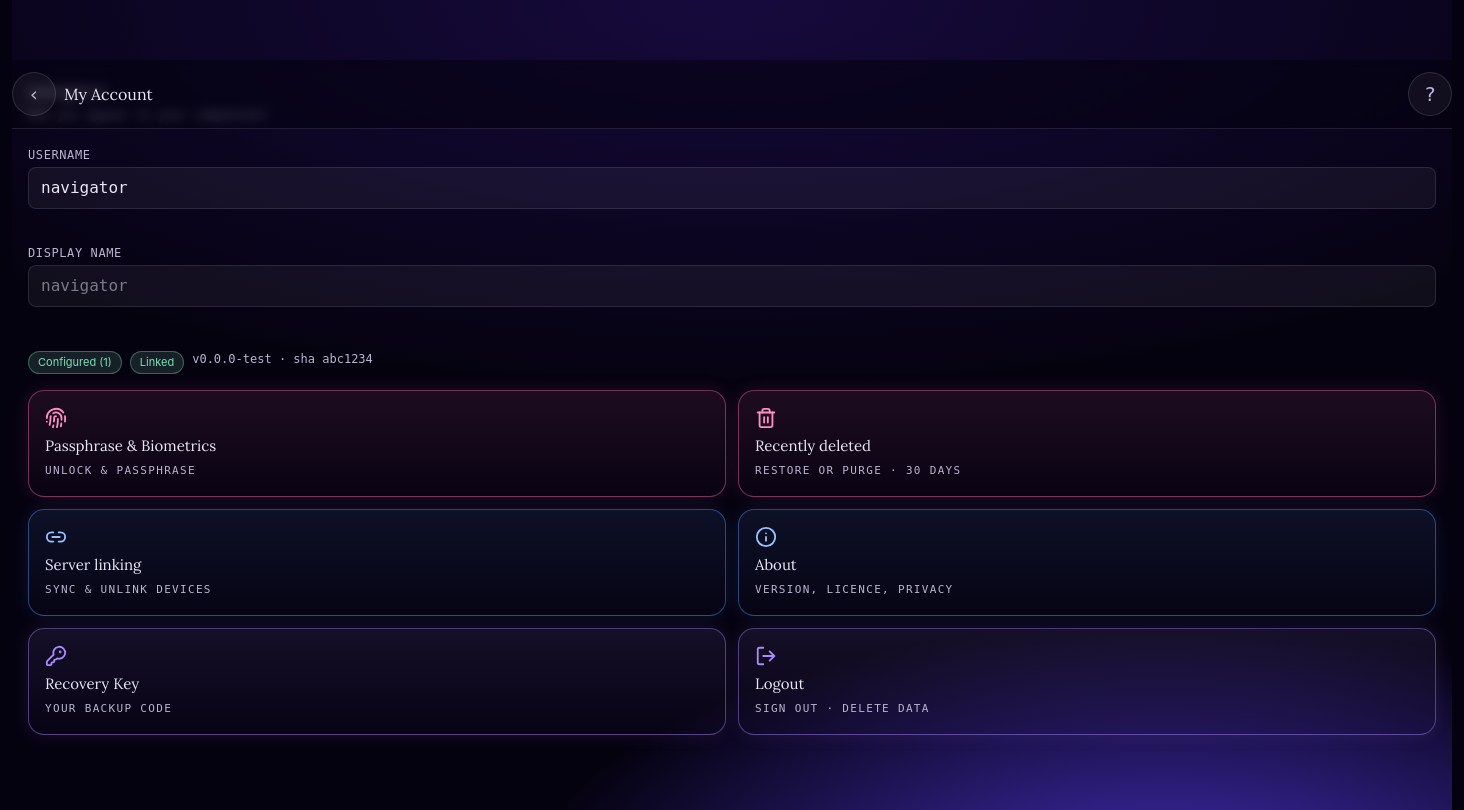
it: AccountPage — username rename across the server link (Defect B) › linked: a 409 surfaces the "already taken" copy (leaves the local name unchanged)
Replace the text in the field labelled "Username" with "taken" at (732, 188), box [28, 167, 1436, 209]
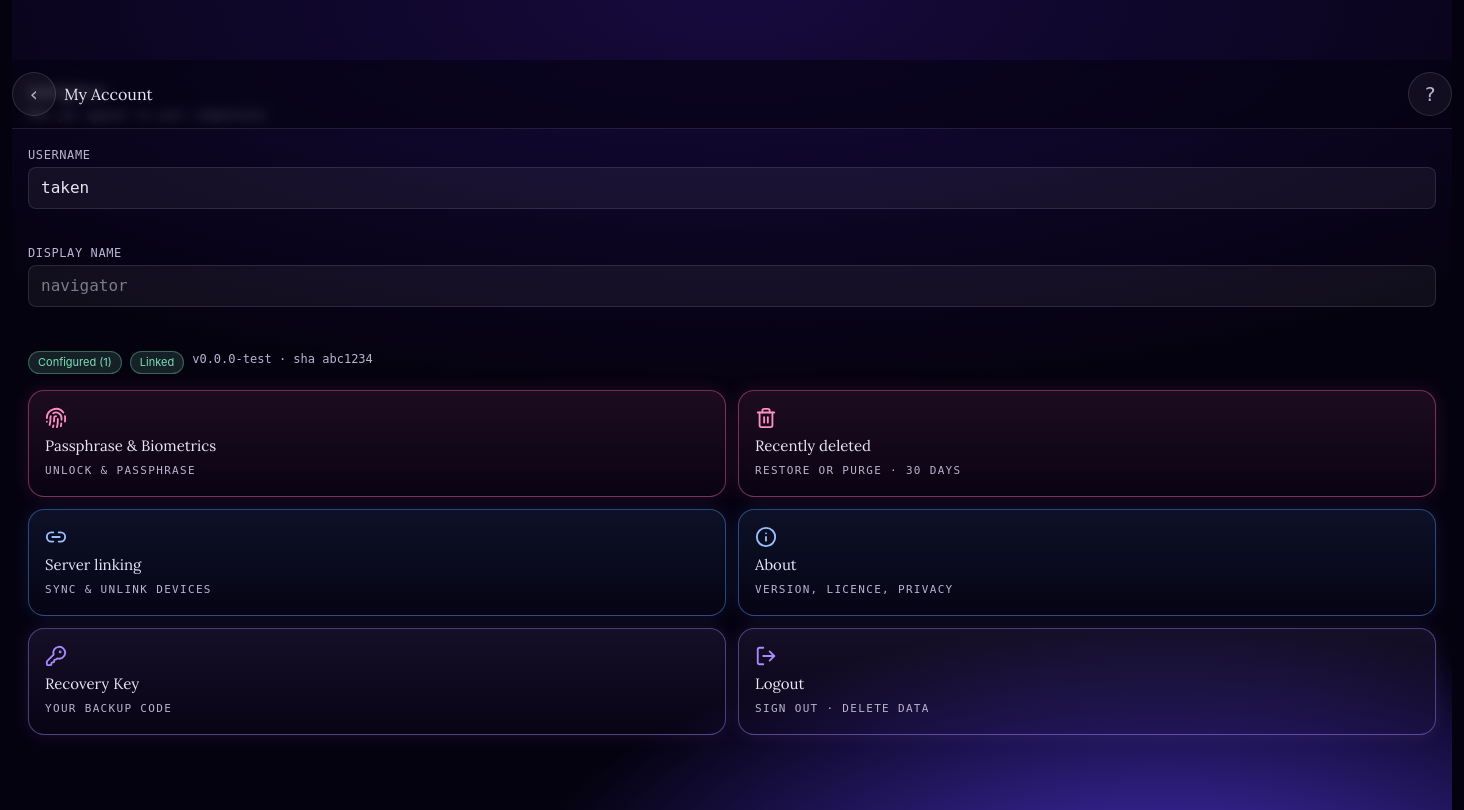
Leave the field labelled "Username", box [28, 167, 1436, 209]
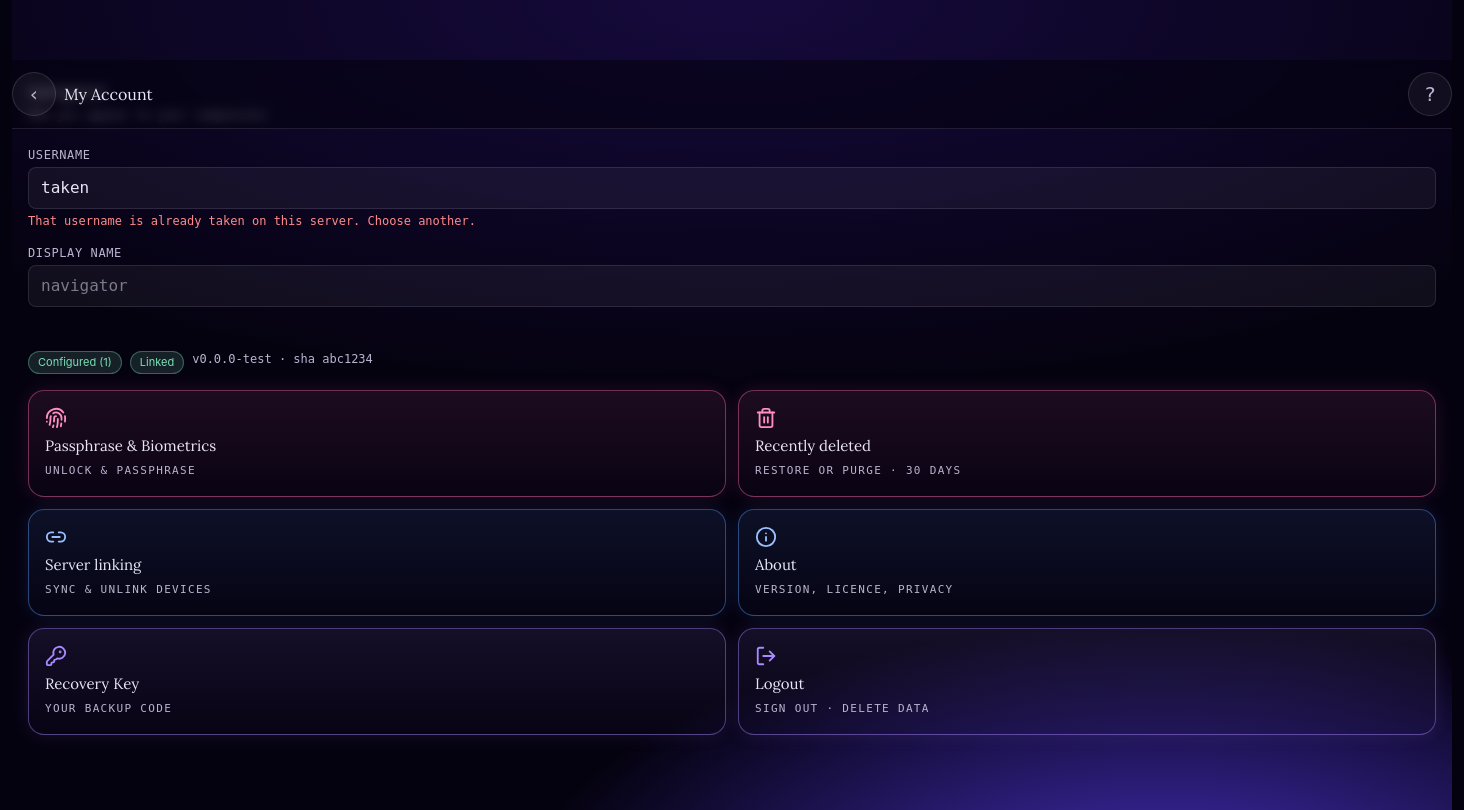
Expected: the text "That username is already taken on this server. Choose another." is shown, [28, 214, 476, 228]
